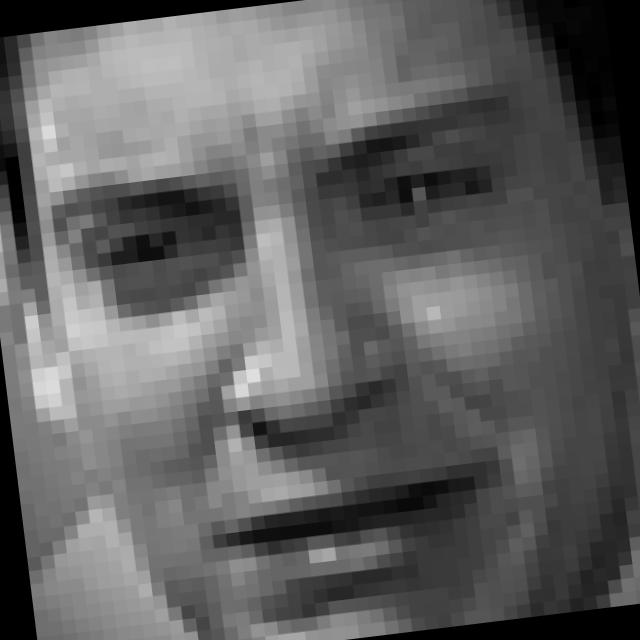sad: (31, 69, 584, 640)
